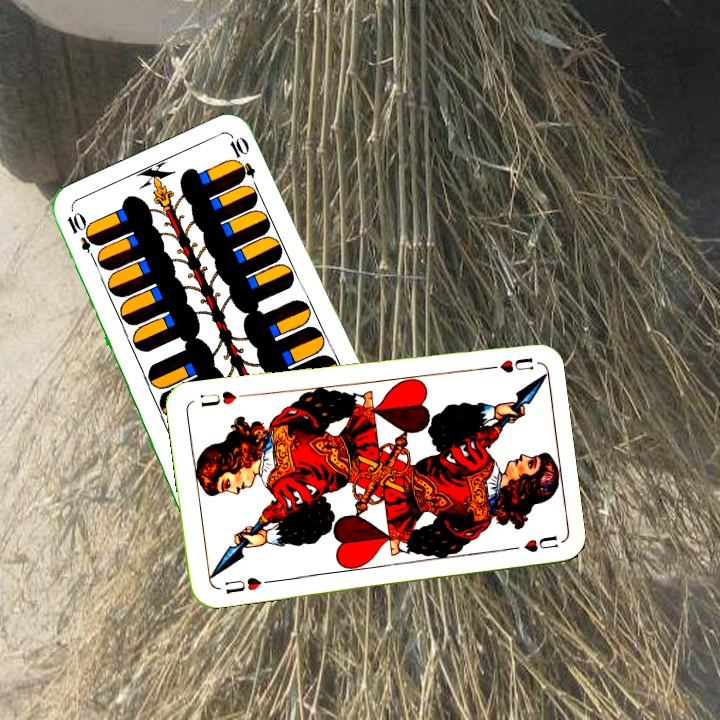E10: (63, 208, 101, 265)
HU: (221, 573, 273, 597), (478, 354, 537, 375)
